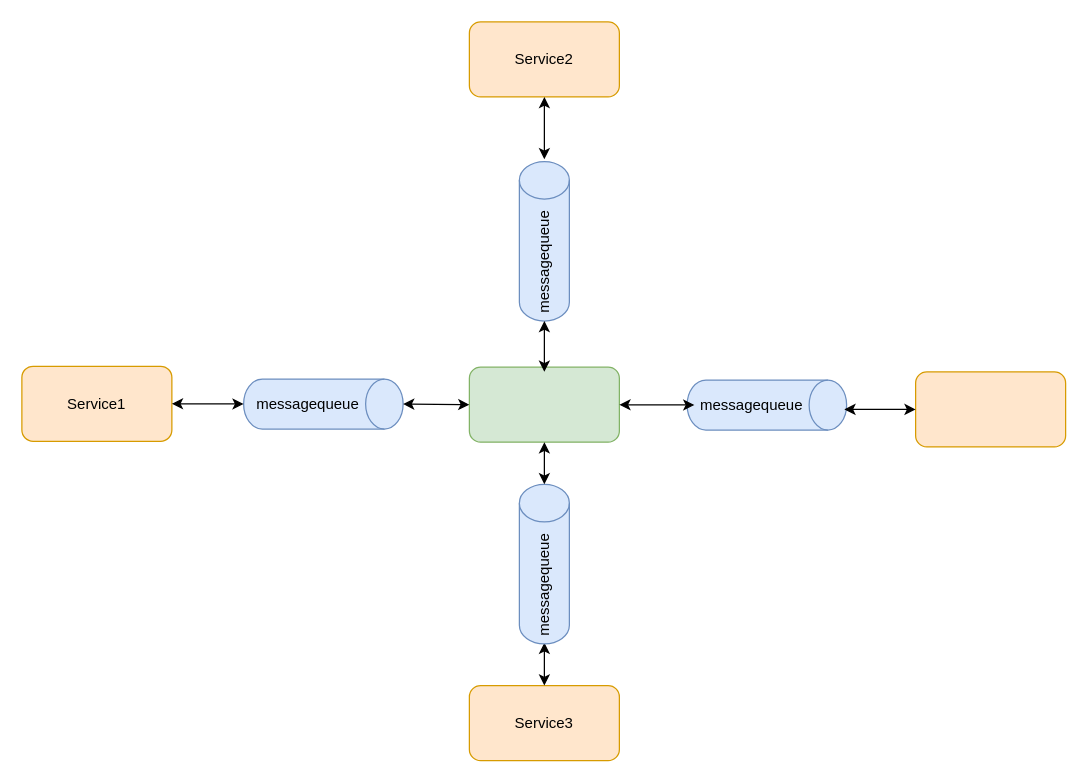
The diagram is 1088 pixels wide and 783 high, and some of its shapes have lost their labels. The centre of each missing label's shape, as x and y in pixels:
"Orchestrator" belongs at point 543,404.
"ServiceN" belongs at point 990,409.
